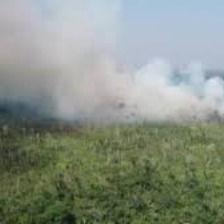incendio: (1, 81, 183, 129), (124, 63, 222, 138)
